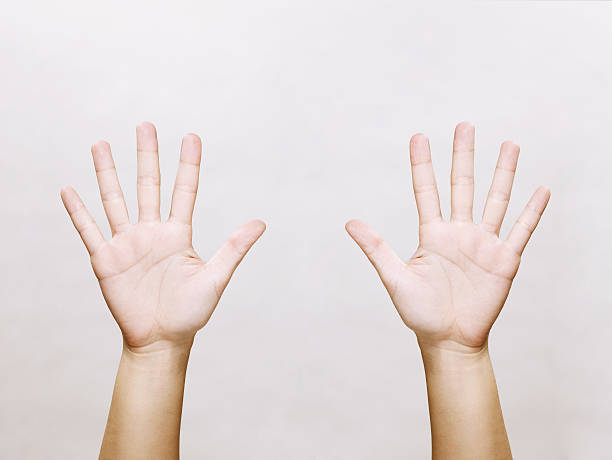non-diseased: (351, 129, 559, 350), (59, 127, 274, 336)
